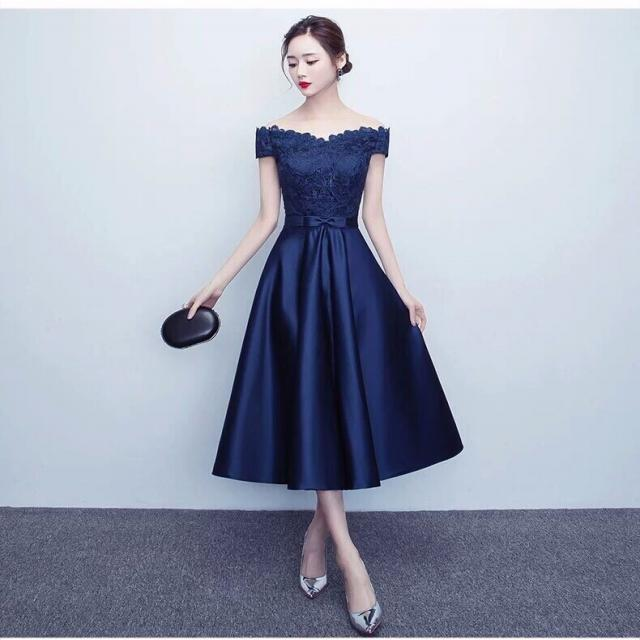clothes: (228, 125, 465, 496)
